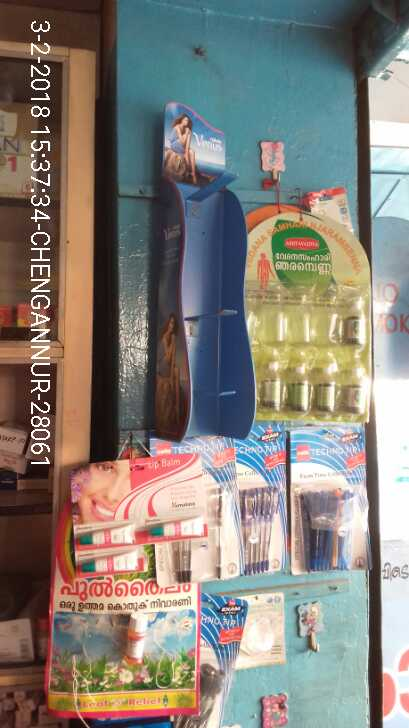reject: (104, 298, 201, 477)
